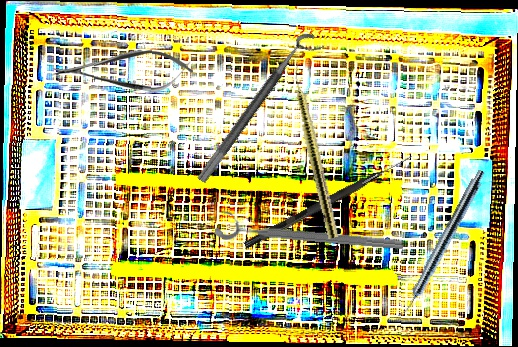Fixation Ring: (196, 28, 326, 193), (214, 207, 405, 256)
Handpiece: (395, 166, 488, 322), (286, 60, 342, 240)
Hook Surgical: (243, 150, 414, 252)
Micro Scissor: (52, 47, 194, 93)
